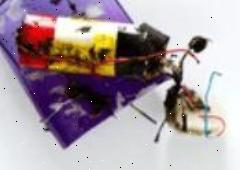electronic: (13, 11, 177, 89)
